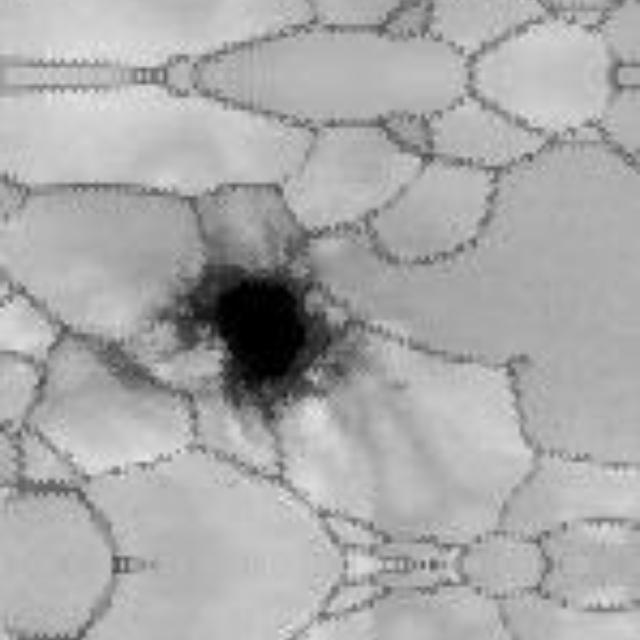good_void: (127, 181, 390, 456)
